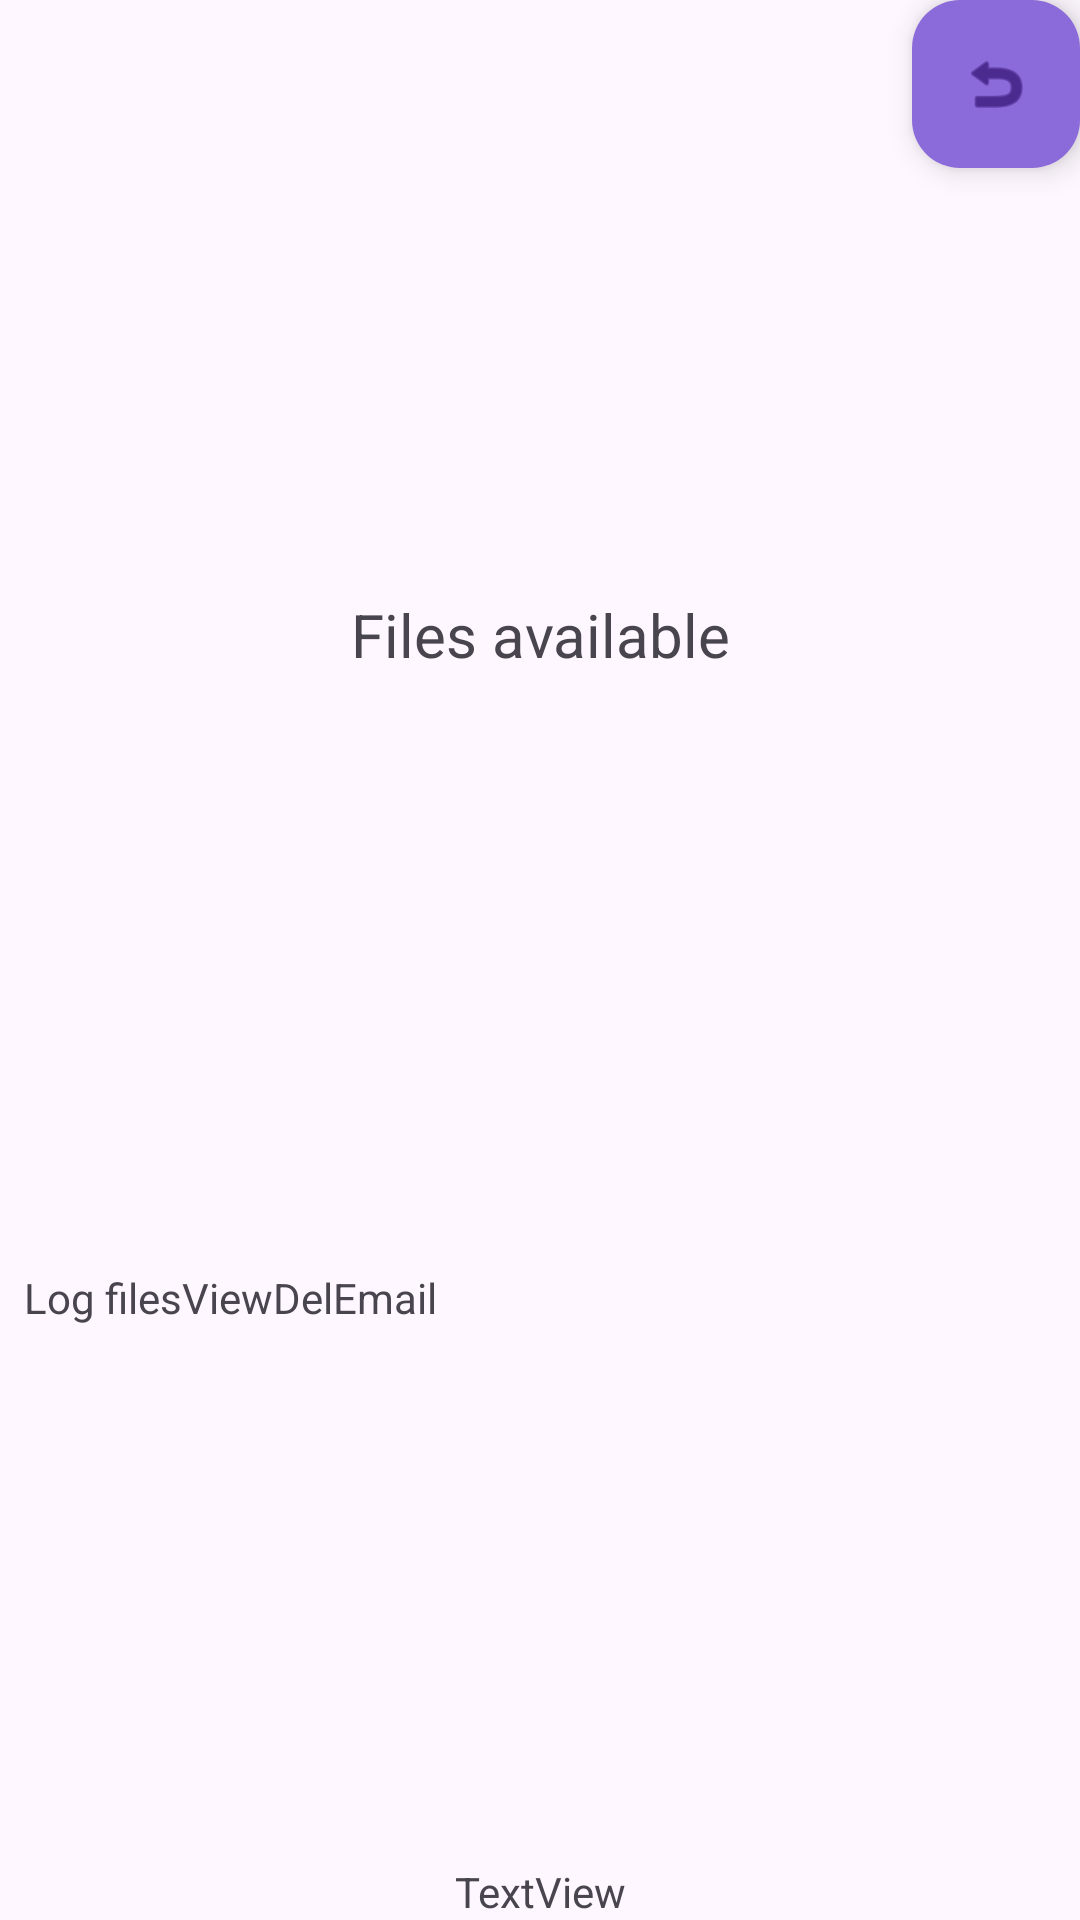

Named icons in this screenshot (1080px×1920px) and their centers, (x=x, y=y):
Return to the main screen: (x=996, y=84)
